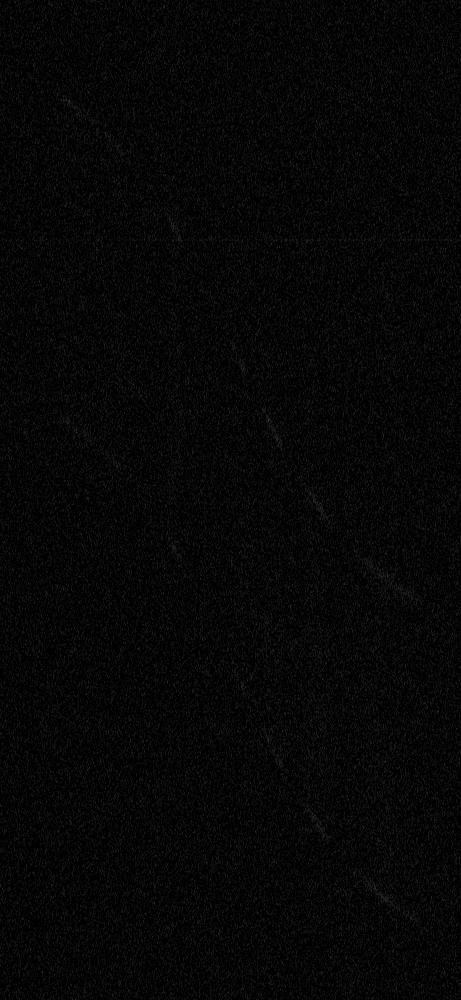signal: (0, 0, 460, 999)
